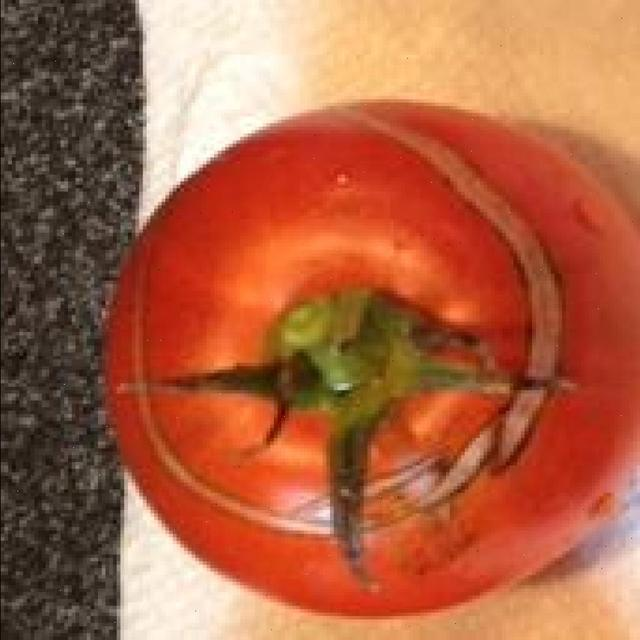Cracking Fruit: (82, 68, 371, 360)
